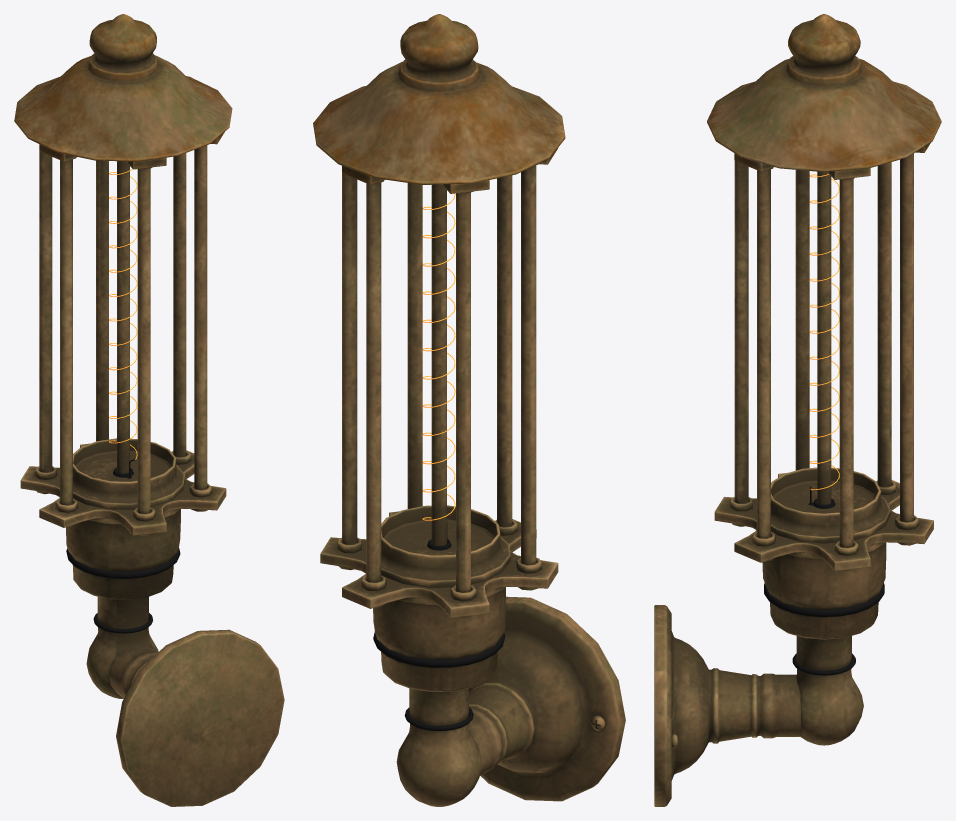
The model's file is wall_lamp.glb.
3 views of the same model, side by side, from view 1: azimuth 30°, elevation 25°; view 2: azimuth 150°, elevation 25°; view 3: azimuth 270°, elevation 25° (orthographic). The views are drawn at different scales.
Visible parts, largest first — view 1: Lamp; view 2: Lamp; view 3: Lamp.
Boxes of the visible parts, x1,y1,x2,y2 form: Lamp: (14,14,284,806); Lamp: (313,14,625,806); Lamp: (654,14,941,806).
Bounding box in the file's own units: 11.18 × 41.15 × 13.69.
1 material, 1 textured.
